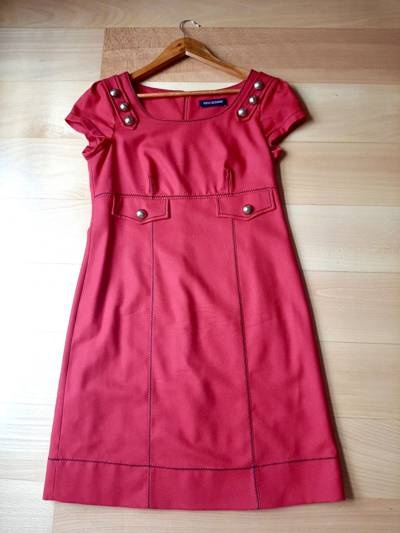Dress: (36, 51, 372, 523)
